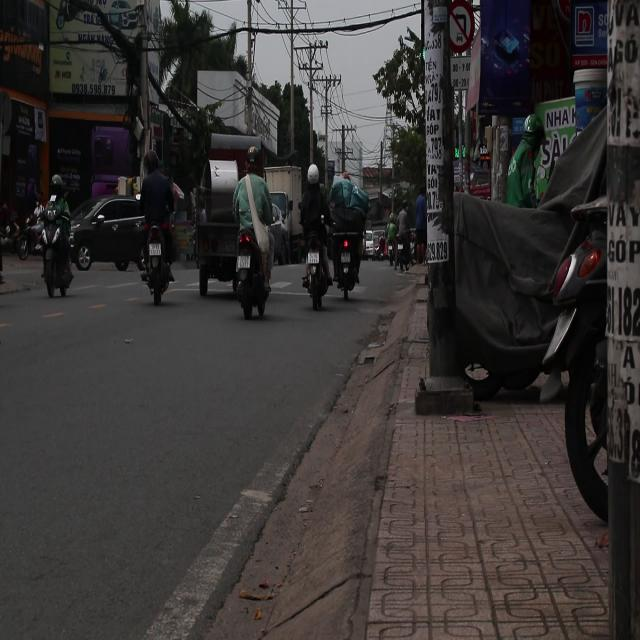car: (71, 195, 147, 271)
motorbike: (27, 199, 80, 308), (231, 210, 274, 330), (328, 206, 362, 319), (140, 220, 178, 304), (302, 236, 332, 312)
